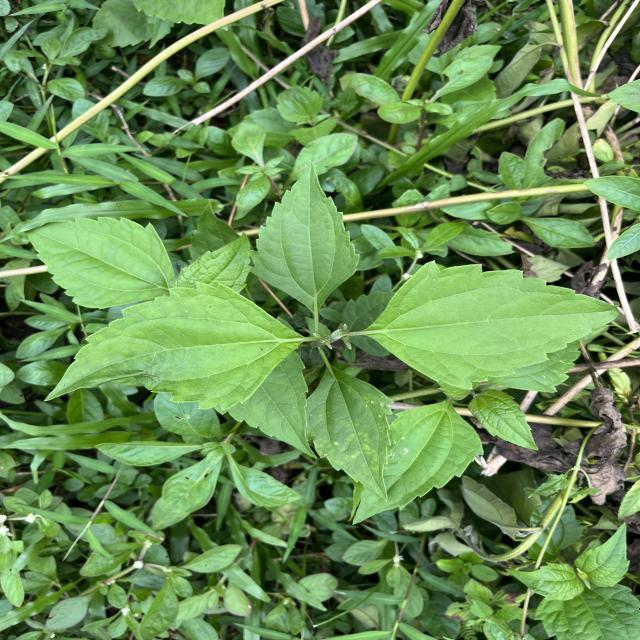Chromolaena odorata: (41, 276, 306, 414), (362, 256, 623, 392), (242, 156, 364, 314), (24, 211, 177, 313)
